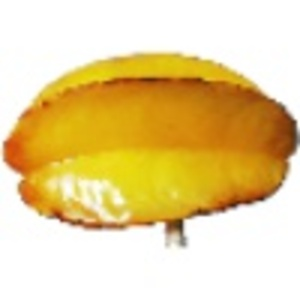carambola: (1, 50, 300, 250)
